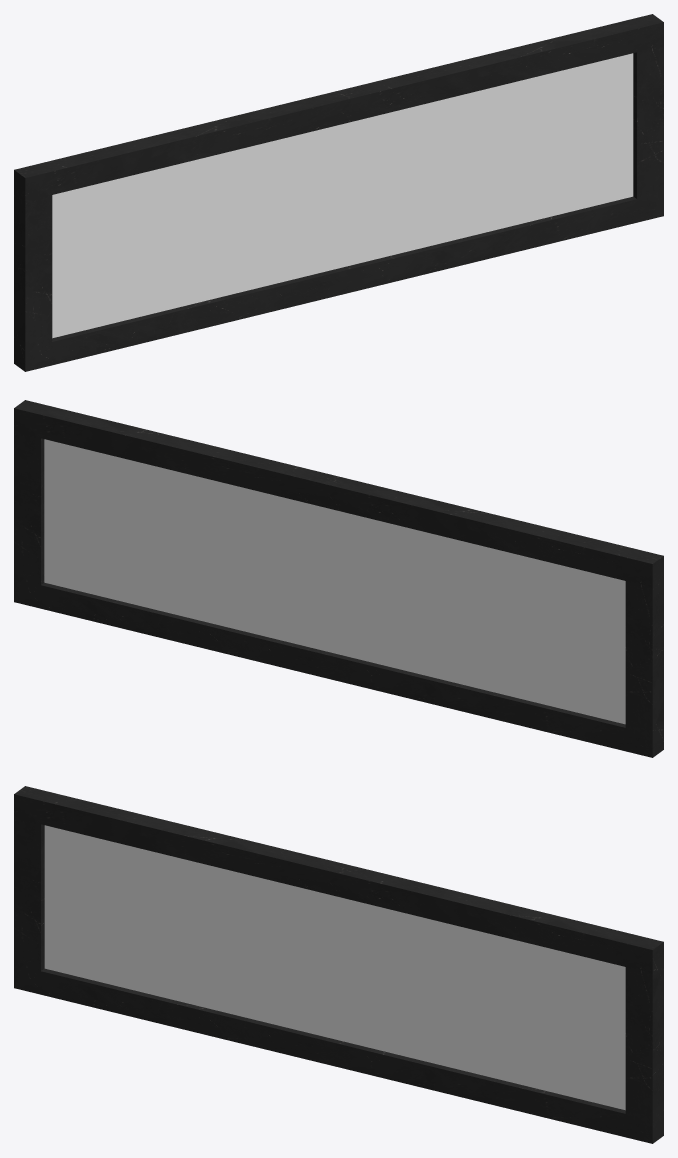
The model's file is Window.FBX.
3 renders of one model, top to bottom at view 1: azimuth 30°, elevation 25°; view 2: azimuth 150°, elevation 25°; view 3: azimuth 330°, elevation 25°, orthographic.
Visible parts, largest first — view 1: window; view 2: window; view 3: window.
Boxes of the visible parts, bbox=[...] form: window: bbox=[14, 14, 663, 371]; window: bbox=[14, 400, 663, 757]; window: bbox=[14, 786, 663, 1143].
Bounding box in the file's own units: 137 × 39.69 × 4.19.
Materials: 2 (1 with a texture image).
